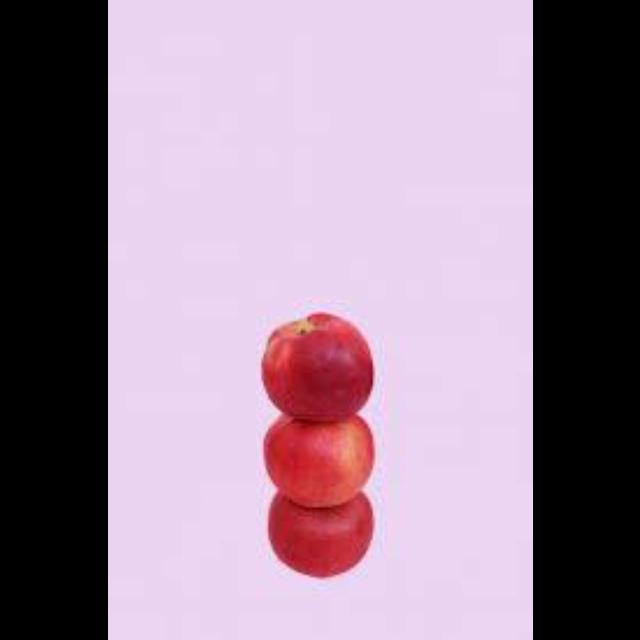apple: (261, 312, 372, 419), (263, 414, 372, 507), (268, 493, 372, 575)
